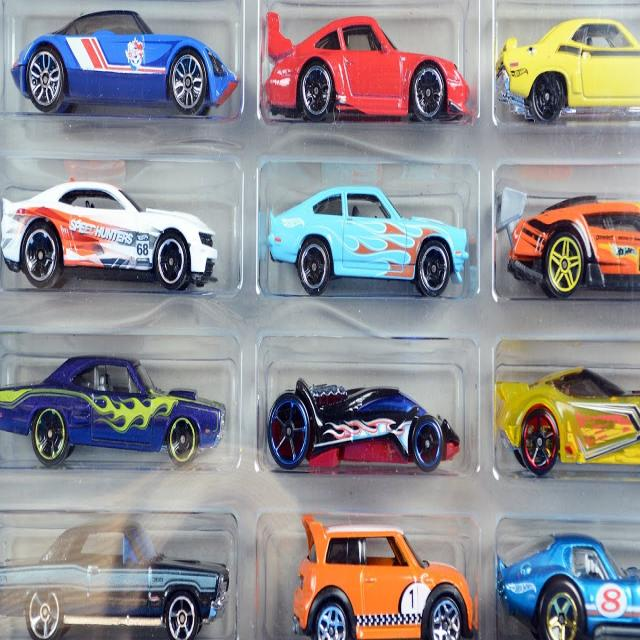Car: (0, 518, 229, 639), (0, 354, 226, 468), (1, 178, 218, 292), (11, 8, 240, 116), (267, 184, 469, 298), (292, 513, 474, 639), (264, 13, 470, 123), (266, 378, 460, 473), (496, 518, 640, 639), (496, 186, 640, 300), (494, 366, 640, 476), (495, 16, 639, 124)
